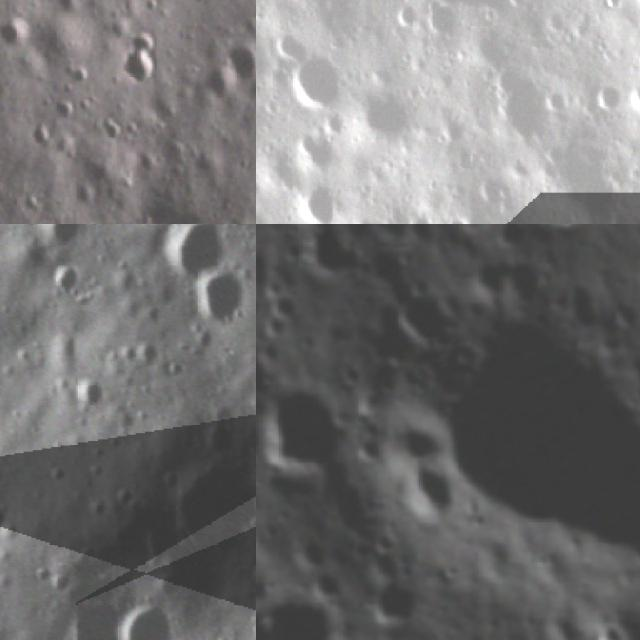crater: (383, 265, 640, 619), (256, 365, 354, 501), (166, 455, 256, 561), (384, 274, 468, 359), (145, 224, 241, 290), (272, 30, 346, 111), (256, 579, 351, 640), (185, 261, 256, 340), (387, 463, 458, 539), (374, 408, 446, 477), (289, 224, 360, 290), (358, 580, 425, 639), (58, 587, 130, 640), (453, 248, 512, 308), (117, 29, 170, 92), (492, 258, 546, 315), (512, 224, 618, 251), (119, 598, 182, 640), (354, 243, 406, 290), (292, 188, 357, 224), (305, 560, 349, 610), (219, 38, 256, 95), (531, 604, 582, 640), (50, 254, 86, 302), (30, 562, 77, 598), (441, 338, 484, 375), (38, 224, 84, 252), (72, 372, 104, 410), (587, 617, 636, 640), (132, 337, 160, 376), (0, 494, 13, 540), (460, 630, 491, 640)
